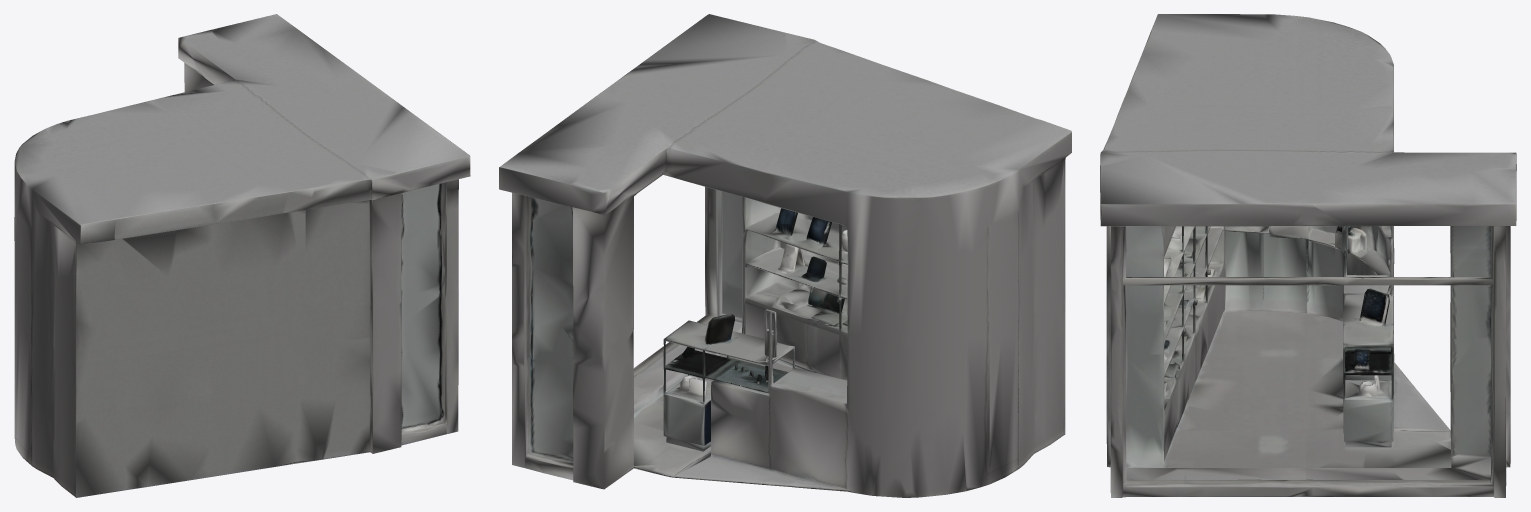
File: frontelc.glb
The picture shows the model from 3 angles, left to right: view 1: azimuth 30°, elevation 25°; view 2: azimuth 150°, elevation 25°; view 3: azimuth 270°, elevation 25°; orthographic projection. The views are drawn at different scales.
Visible parts, largest first — view 1: tripo_node_19cd6529-3a9a-4625-a380-2c778788e2b9; view 2: tripo_node_19cd6529-3a9a-4625-a380-2c778788e2b9; view 3: tripo_node_19cd6529-3a9a-4625-a380-2c778788e2b9.
Boxes of the visible parts, x1,y1,x2,y2 form: tripo_node_19cd6529-3a9a-4625-a380-2c778788e2b9: [14, 14, 470, 497]; tripo_node_19cd6529-3a9a-4625-a380-2c778788e2b9: [499, 14, 1071, 497]; tripo_node_19cd6529-3a9a-4625-a380-2c778788e2b9: [1100, 14, 1516, 497].
Bounding box in the file's own units: 2.88 × 2.1 × 2.66.
1 material, 1 textured.
